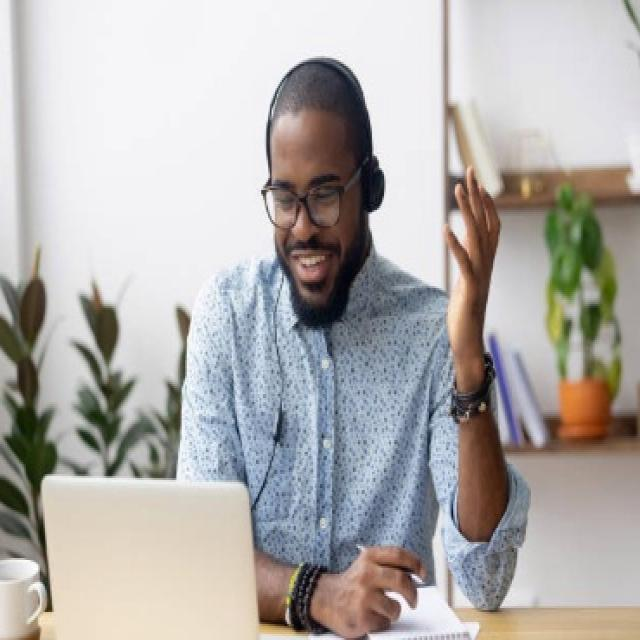adult: (200, 55, 518, 621)
